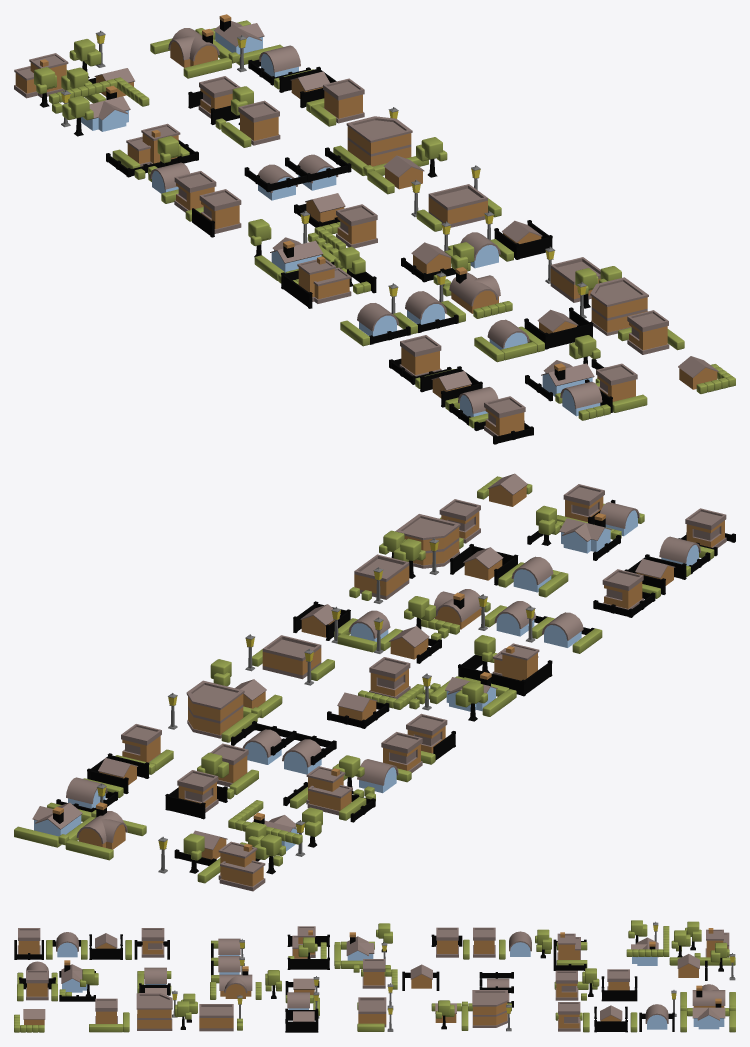
Rendered from Dashboard_Map__Deployment-2.fbx.
The picture shows the model from 3 angles, top to bottom: view 1: azimuth 30°, elevation 25°; view 2: azimuth 150°, elevation 25°; view 3: azimuth 270°, elevation 25°; orthographic projection. The views are drawn at different scales.
Visible parts, largest first — view 1: Map-Shop-Lv2.002, Map-Shop-Lv2.001, Map-Shop-Lv1.003, Map-House-S-Lv2-R.002, Map-House-R-Lv2-R.003, Map-House-R-Lv2-R.002, Map-House-S-Lv1-R.005, Map-House-S-Lv1-R.006, Map-House-S-Lv1-R.012, Map-House-S-Lv1-R.011, Map-House-S-Lv1-R.003, Map-House-S-Lv1-R.009 (+28 smaller); view 2: Map-Shop-Lv2.002, Map-Shop-Lv2.001, Map-Shop-Lv1.003, Map-House-S-Lv2-R.004, Map-Shop-Lv1.002, Map-House-S-Lv2-R.003, Map-House-T-Lv2-R.001, Map-House-R-Lv2-R.002, Map-House-S-Lv1-R.006, Map-House-R-Lv2-R.003, Map-House-S-Lv1-R.003, Map-House-S-Lv1-R.002 (+28 smaller); view 3: Map-Shop-Lv2.001, Map-Shop-Lv2.002, Map-Shop-Lv1.002, Map-House-R-Lv2-R.003, Map-Shop-Lv1.003, Map-House-T-Lv2-R.004, Map-House-S-Lv1-R.011, Map-House-S-Lv1-R.003, Map-House-S-Lv1-R.004, Map-House-S-Lv1-R.008, Map-House-S-Lv1-R.009, Map-House-S-Lv1-R.006 (+50 smaller).
Boxes of the visible parts, x1,y1,x2,y2 form: Map-Shop-Lv2.002: (346,116,412,166); Map-Shop-Lv2.001: (590,277,648,335); Map-Shop-Lv1.003: (428,184,487,227); Map-House-S-Lv2-R.002: (297,256,351,303); Map-House-R-Lv2-R.003: (449,267,500,313); Map-House-R-Lv2-R.002: (168,28,219,67); Map-House-S-Lv1-R.005: (627,310,669,354); Map-House-S-Lv1-R.006: (336,204,377,248); Map-House-S-Lv1-R.012: (323,78,364,123); Map-House-S-Lv1-R.011: (238,100,280,145); Map-House-S-Lv1-R.003: (399,335,441,376); Map-House-S-Lv1-R.009: (199,189,241,233); Map-Shop-Lv2.002: (186,680,244,738); Map-Shop-Lv2.001: (395,514,460,568); Map-Shop-Lv1.003: (262,635,321,679); Map-House-S-Lv2-R.004: (218,841,265,891); Map-Shop-Lv1.002: (354,554,409,599); Map-House-S-Lv2-R.003: (306,766,352,815); Map-House-T-Lv2-R.001: (559,513,612,553); Map-House-R-Lv2-R.002: (76,802,127,849); Map-House-S-Lv1-R.006: (369,657,410,698); Map-House-R-Lv2-R.003: (434,589,481,629); Map-House-S-Lv1-R.003: (602,569,643,609); Map-House-S-Lv1-R.002: (685,508,726,547); Map-Shop-Lv2.001: (136,993,172,1030); Map-Shop-Lv2.002: (472,990,508,1027); Map-Shop-Lv1.002: (199,1004,233,1031); Map-House-R-Lv2-R.003: (219,966,252,998); Map-Shop-Lv1.003: (358,997,386,1027); Map-House-T-Lv2-R.004: (692,998,725,1029); Map-House-S-Lv1-R.011: (555,970,578,1000); Map-House-S-Lv1-R.003: (141,928,164,957); Map-House-S-Lv1-R.004: (26,970,48,1000); Map-House-S-Lv1-R.008: (473,927,495,957); Map-House-S-Lv1-R.009: (436,927,458,957); Map-House-S-Lv1-R.006: (362,959,385,988).
Size of the model in its own units: 10.24 by 1.99 by 35.32.
